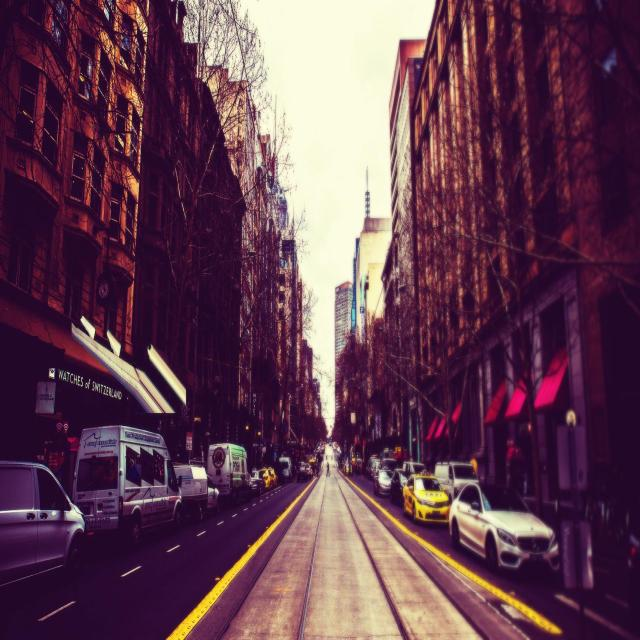airplane: (71, 313, 187, 414)
